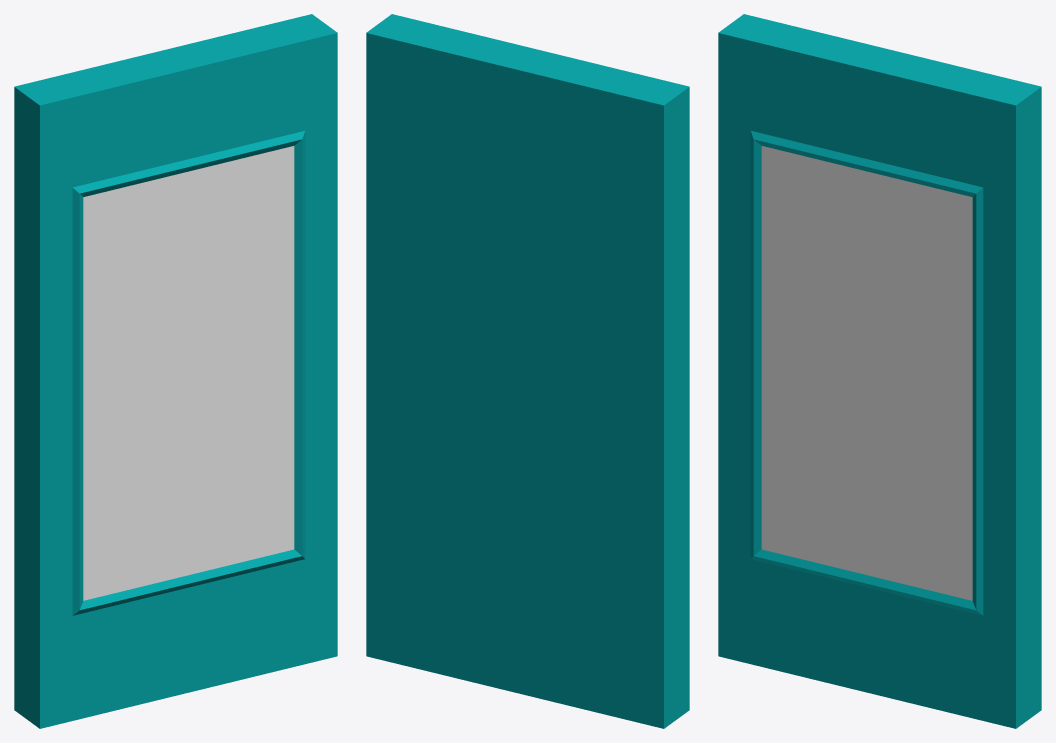
File: TurquoiseGalleryInfo.glb
The picture shows the model from 3 angles, left to right: view 1: azimuth 30°, elevation 25°; view 2: azimuth 150°, elevation 25°; view 3: azimuth 330°, elevation 25°; orthographic projection.
Visible parts, largest first — view 1: galleryInfo_Turquoise; view 2: galleryInfo_Turquoise; view 3: galleryInfo_Turquoise.
Part boxes in pixels (bbox=[...]): galleryInfo_Turquoise: bbox=[14, 14, 337, 728]; galleryInfo_Turquoise: bbox=[366, 14, 689, 728]; galleryInfo_Turquoise: bbox=[718, 14, 1041, 728].
Size of what is drawn, in the model's own units: 2 by 4 by 0.3245.
Materials: 1 (1 with a texture image).
